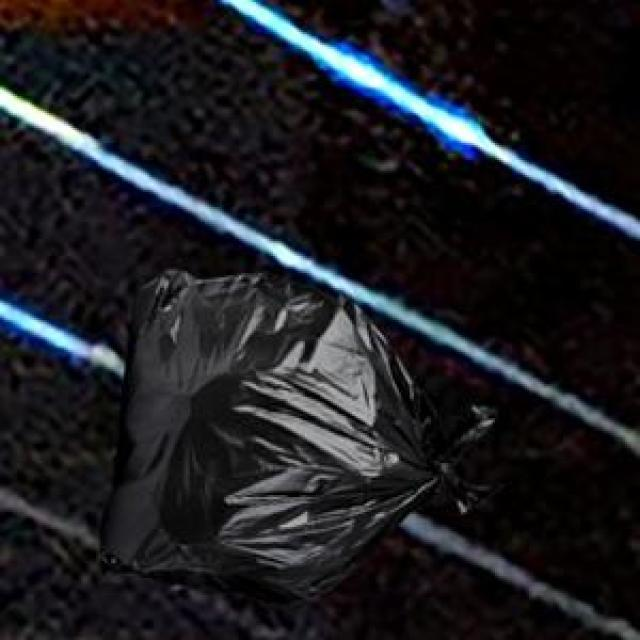Trashbag: (102, 259, 514, 640)
